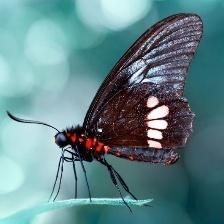butterfly: (55, 14, 204, 164)
